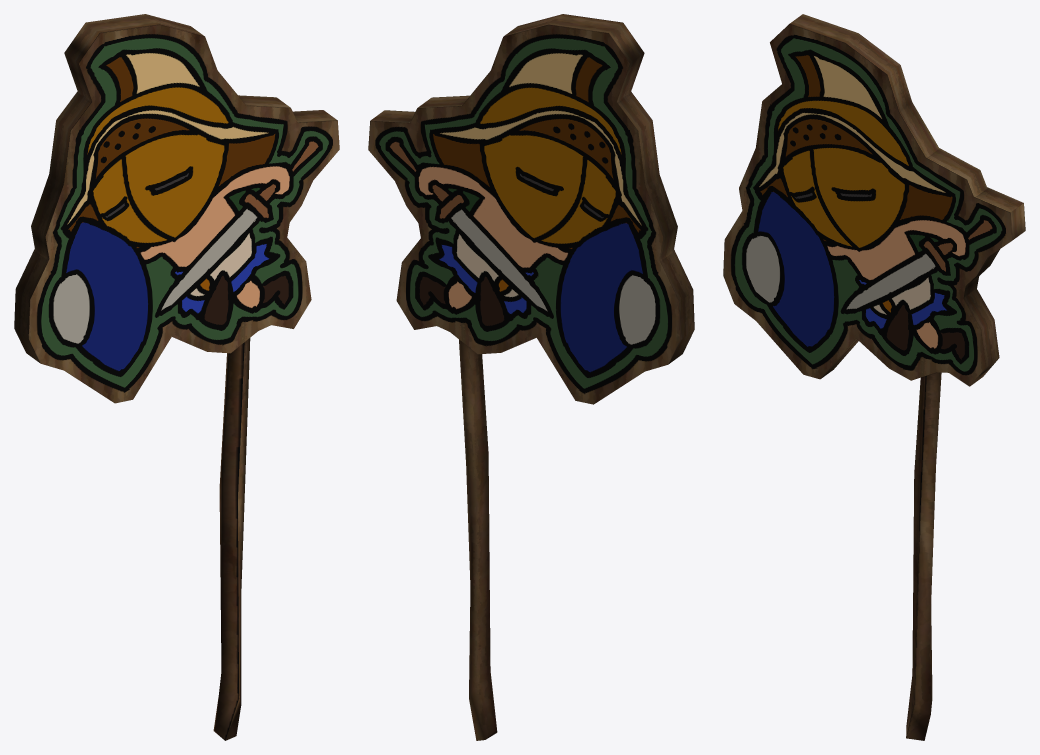
Rendered from unit2_run_M.fbx.
3 views of the same model, side by side, from view 1: azimuth 30°, elevation 25°; view 2: azimuth 150°, elevation 25°; view 3: azimuth 330°, elevation 25° (orthographic). The views are drawn at different scales.
Visible parts, largest first — view 1: Mesh; view 2: Mesh; view 3: Mesh.
Boxes of the visible parts, left/top/right/bottom form: Mesh: left=14, top=14, right=339, bottom=740; Mesh: left=368, top=14, right=694, bottom=740; Mesh: left=723, top=14, right=1025, bottom=740.
Bounding box in the file's own units: 10.34 × 23.52 × 0.9677.
Materials: 1 (1 with a texture image).
